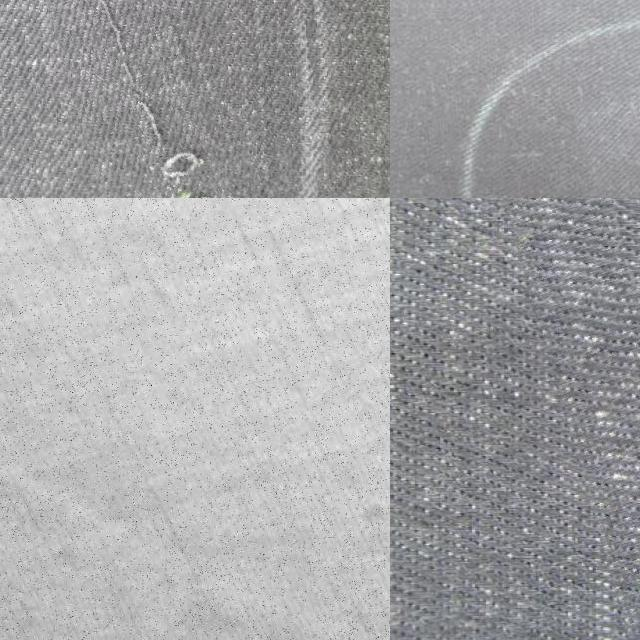Thread_other: (525, 198, 640, 640), (36, 0, 252, 198)
